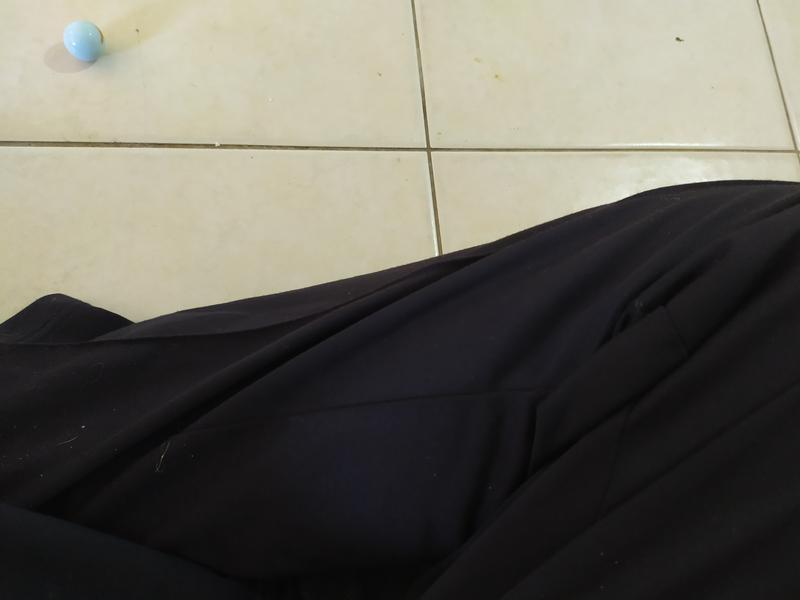Warning: (60, 17, 107, 64)
